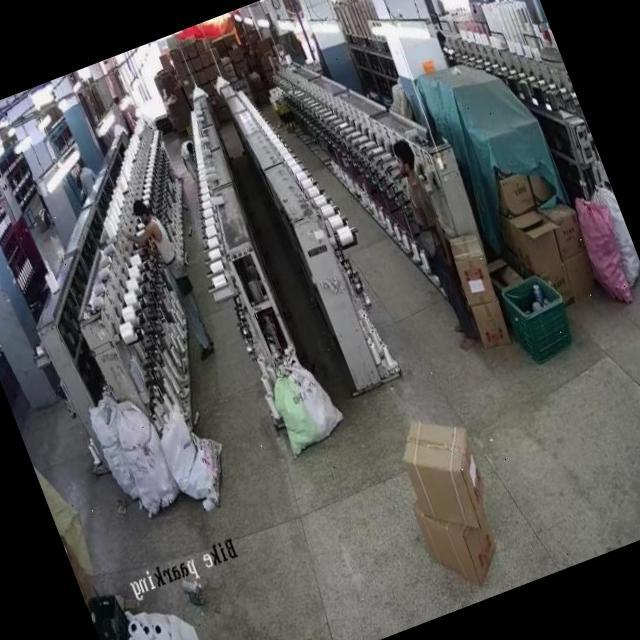person: (378, 133, 488, 350), (128, 188, 216, 359), (172, 132, 204, 180), (74, 161, 100, 195)
